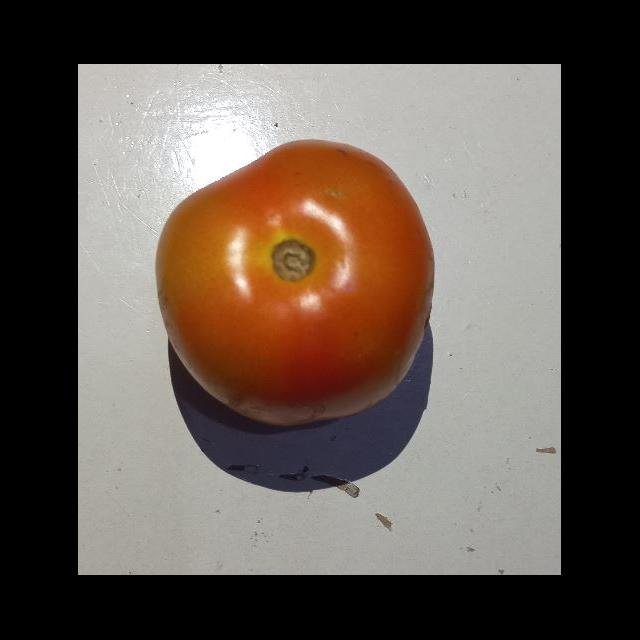tomato: (144, 132, 450, 423)
